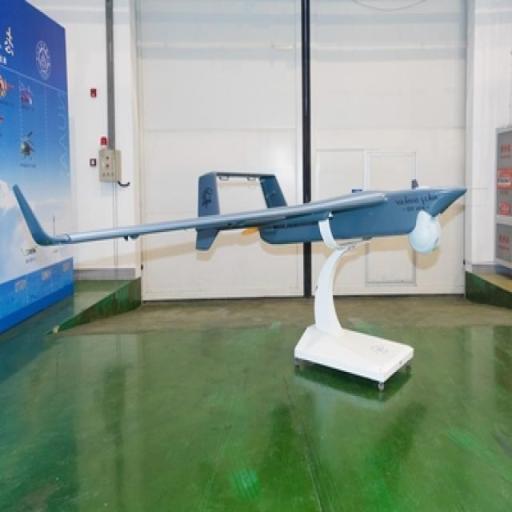uav: (0, 160, 463, 264)
